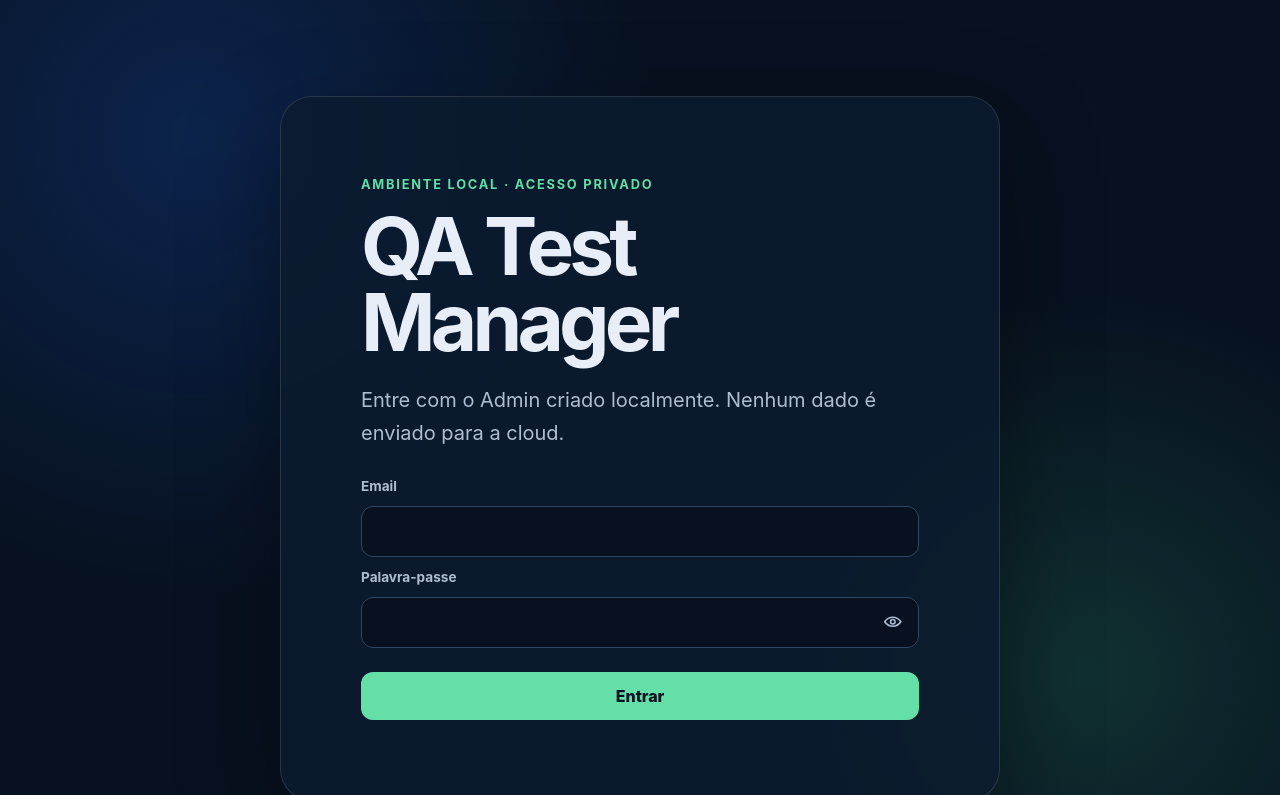
Test case: App › shows the authenticated user after login
In the field labelled "Email": (640, 531) [361,506,919,557], type "admin@example.com"
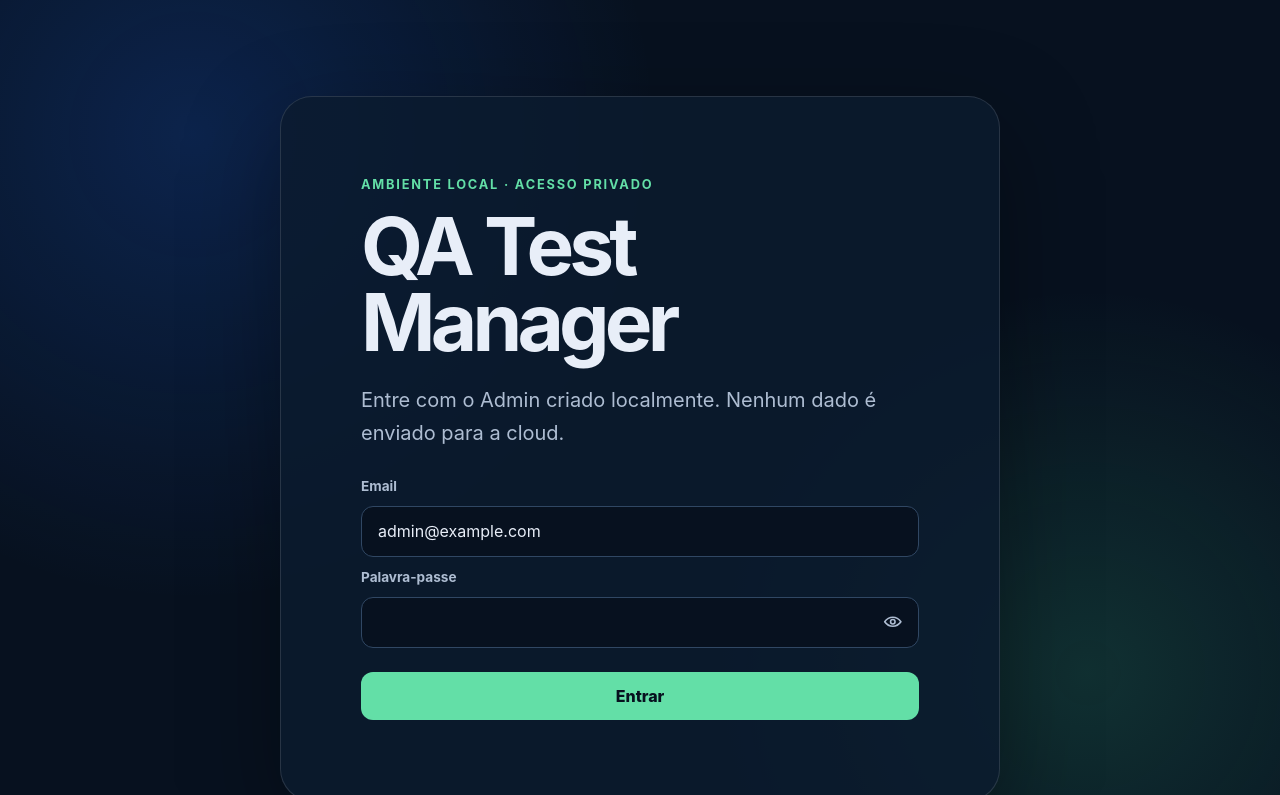
In the password field labelled "Palavra-passe": (640, 622) [361,597,919,648], type "password"
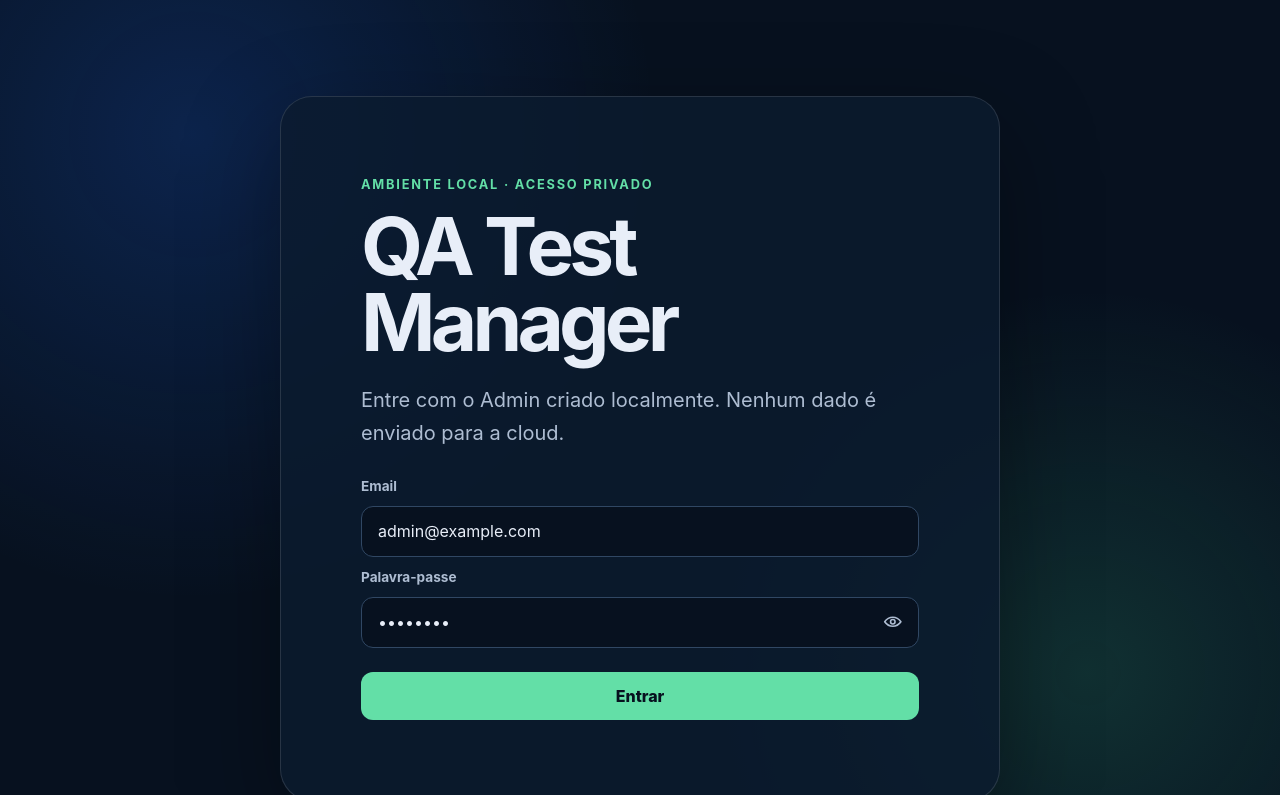
Click the button "Entrar": (640, 696) [361,672,919,720]
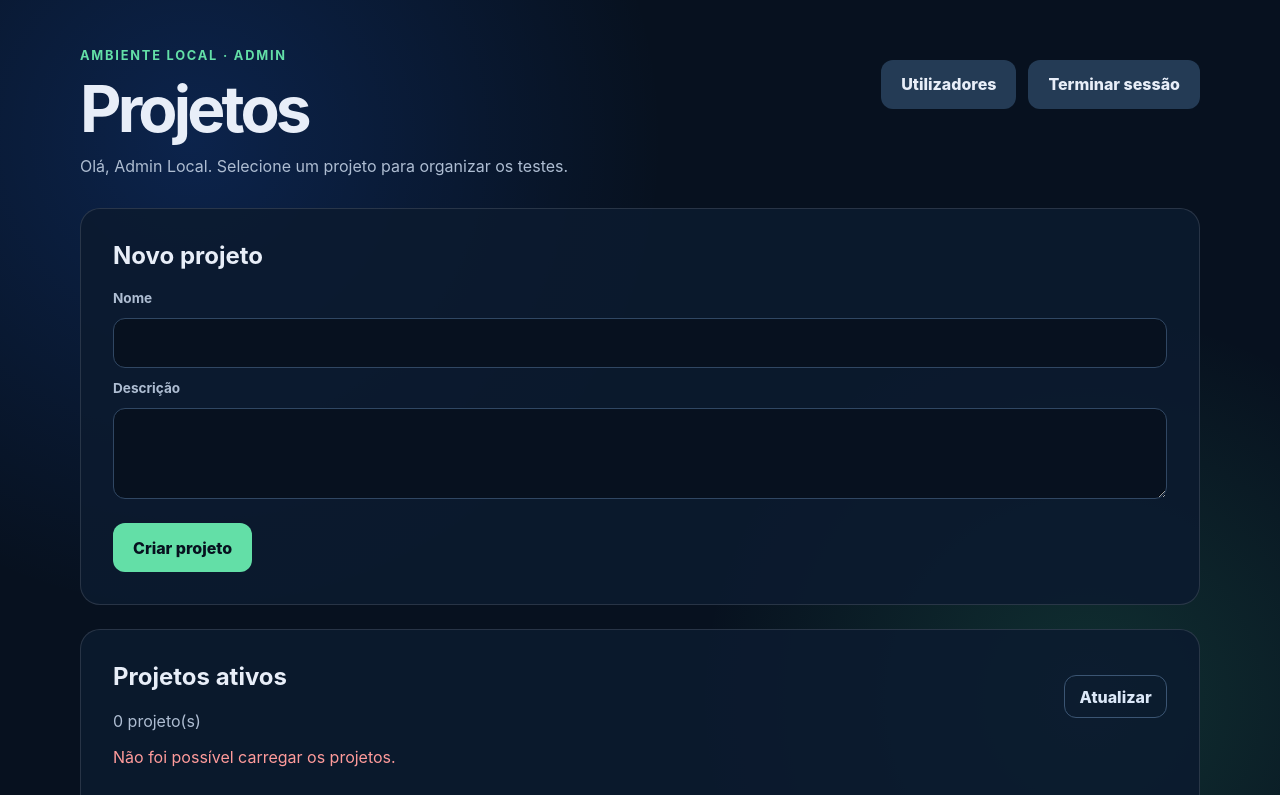
Result: the text "Olá, Admin Local. Selecione um projeto para organizar os testes." is shown at [80,156,568,176]
